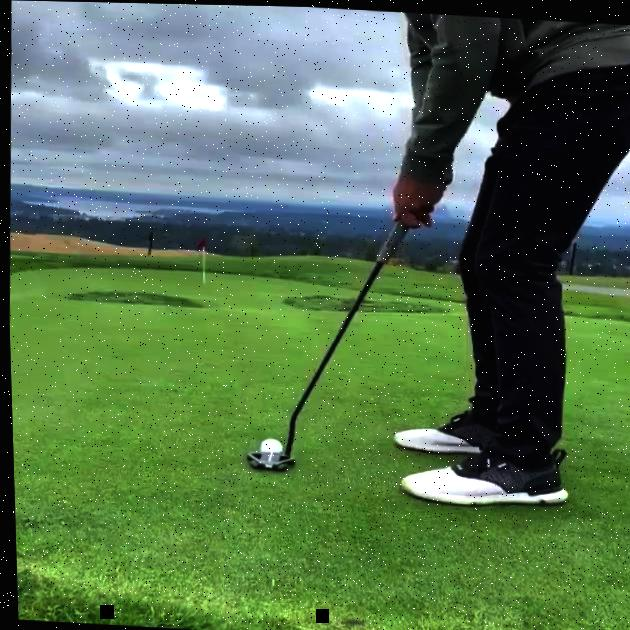ClubHead: (240, 447, 293, 471)
GolfBall: (256, 437, 279, 451)
